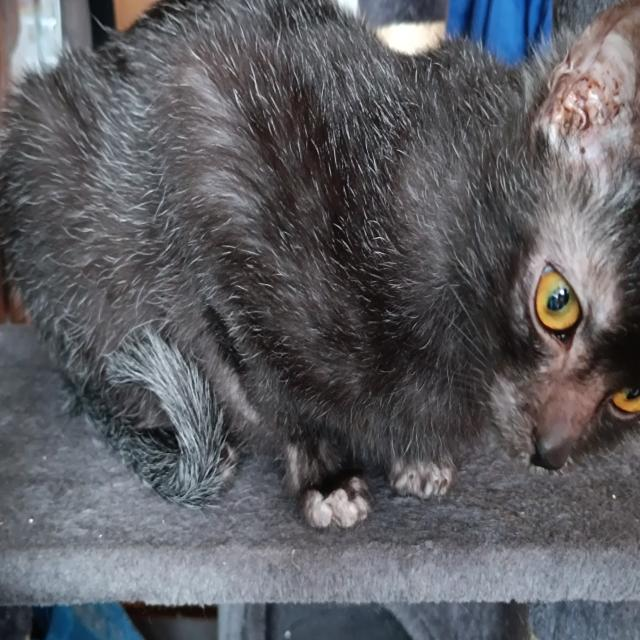Lykoi: (0, 0, 640, 534)
